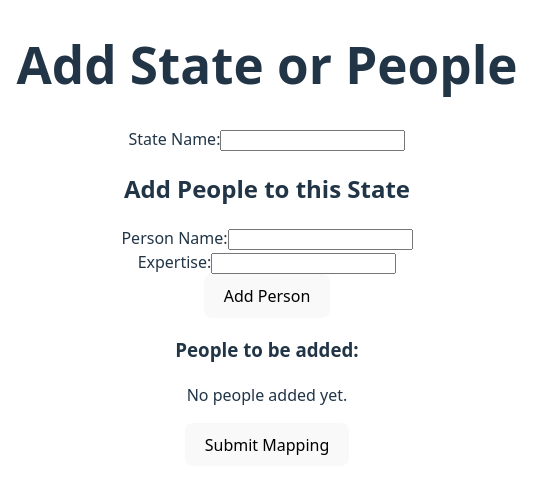
Test case: Add › shows error when trying to add person without expertise
The width and height of the screenshot is (533, 494).
Type "Jane Smith" into the field labelled "Person Name:" at (320, 240), box [228,229,412,250]
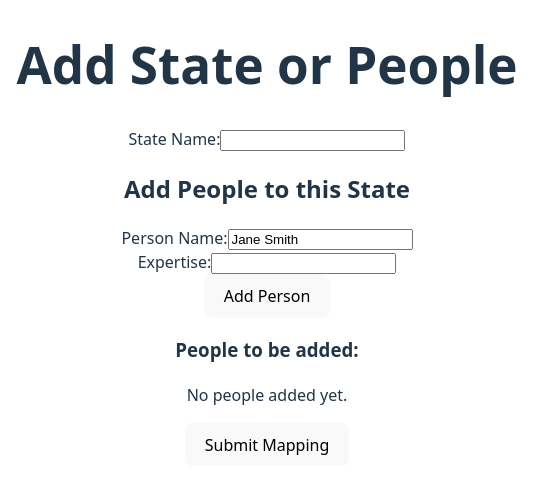
Click the button "Add Person" at (267, 296), box [204,274,330,318]
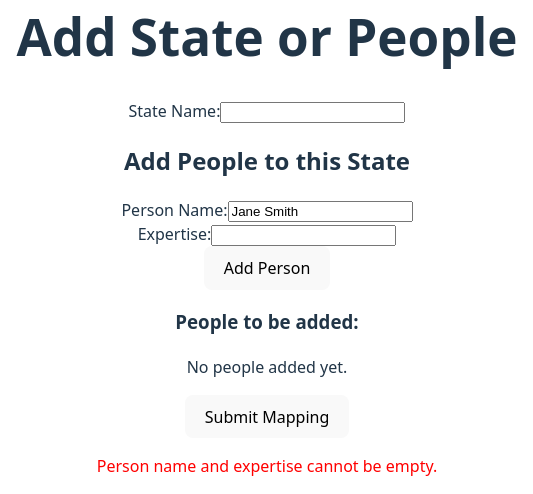
Expected: the text "No people added yet." is shown, [187,356,347,378]
Now the text "Person name and expertise cannot be empty." is shown, box [97,455,437,477]
